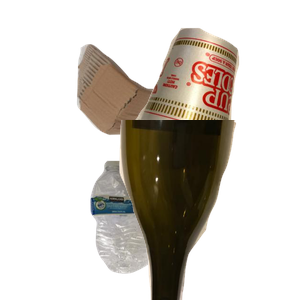cardboard: (74, 42, 225, 170)
glass: (117, 120, 300, 300)
plastic: (88, 158, 229, 300)
trash: (133, 25, 300, 167)
